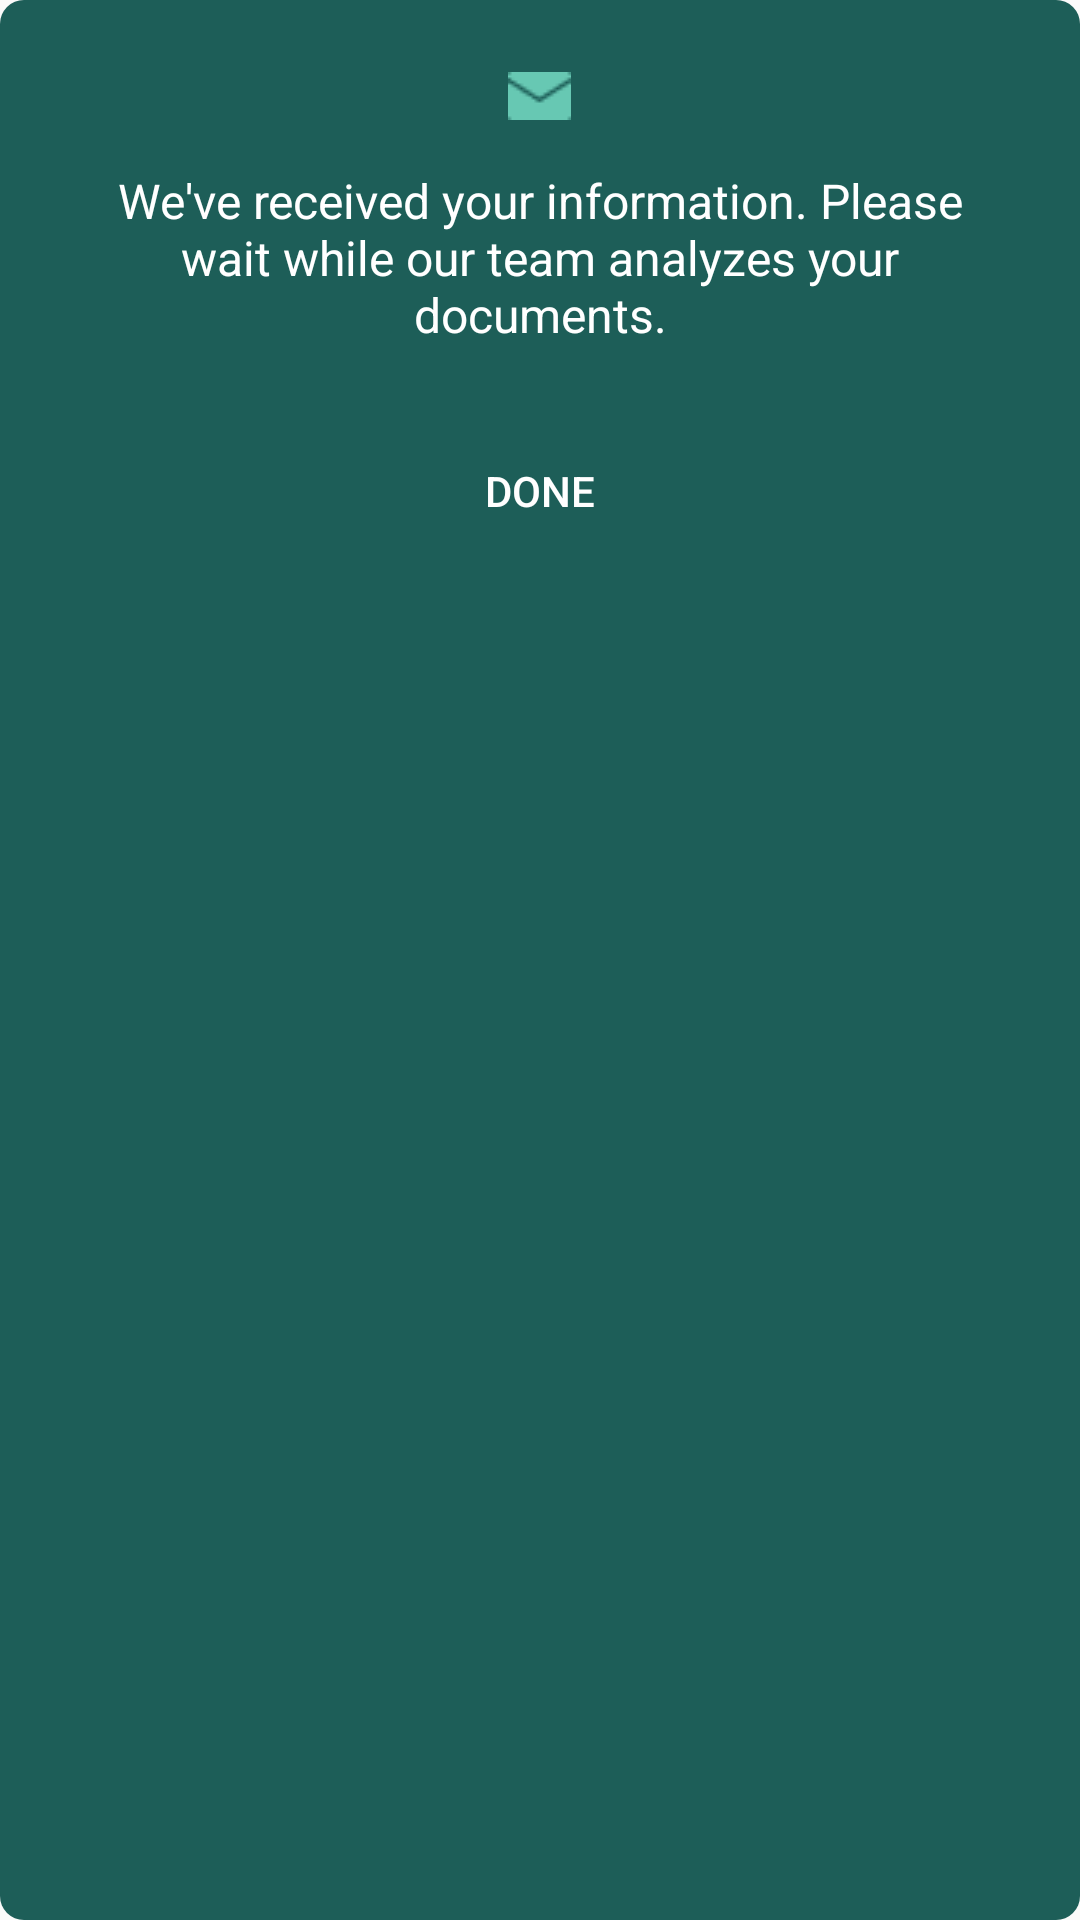

Point at icon controls on the screen. Image size 1080x1920, points as (x,y).
forgot message: (539,96)
